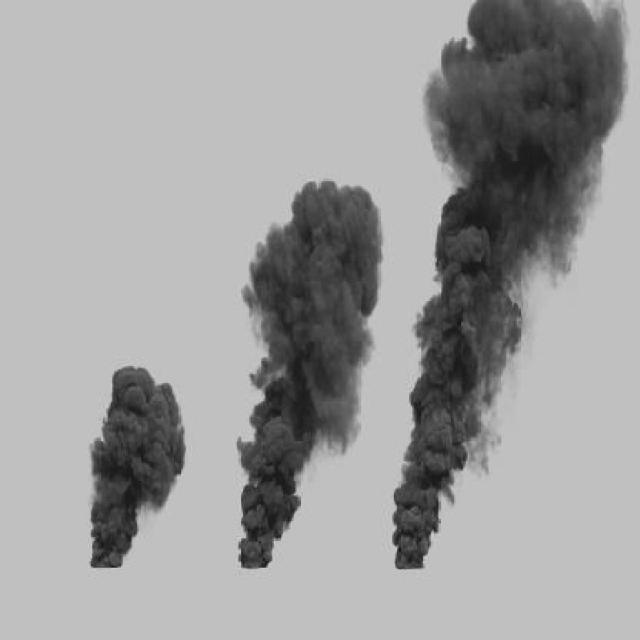Smoke: (398, 1, 628, 567), (227, 180, 385, 572), (88, 367, 192, 567)
